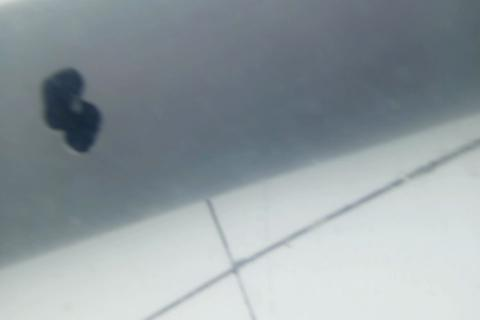kebocoran: (38, 65, 104, 156)
